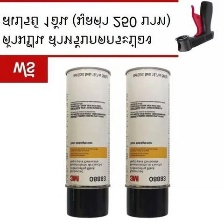aerosol_cans: (122, 64, 175, 221), (61, 63, 113, 220)
